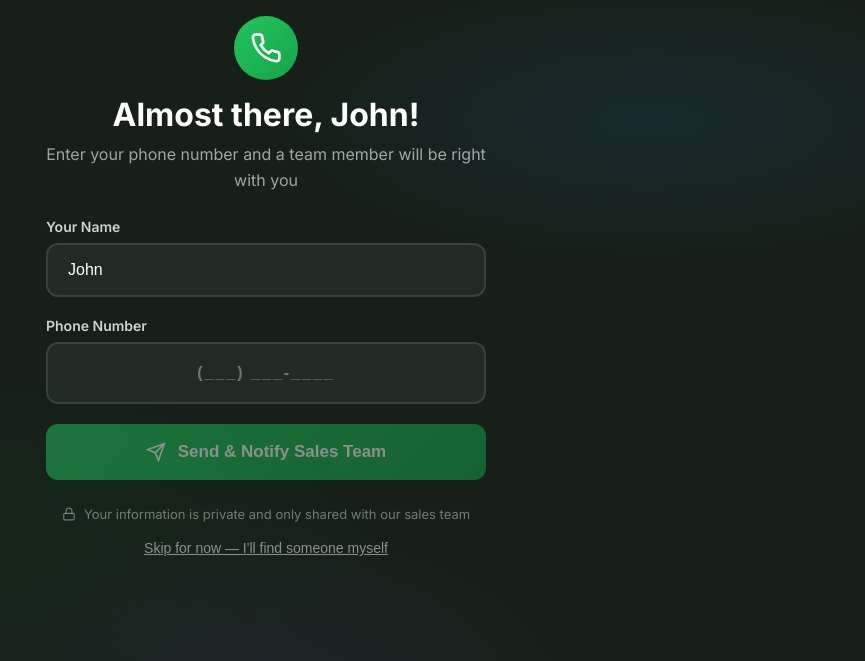
Test: CustomerHandoff Component › Form Submission › shows success view after successful submission
Type "6175551234" into the field with placeholder "(___) ___-____" at point(266, 373), box x1=46 y1=342 x2=486 y2=404
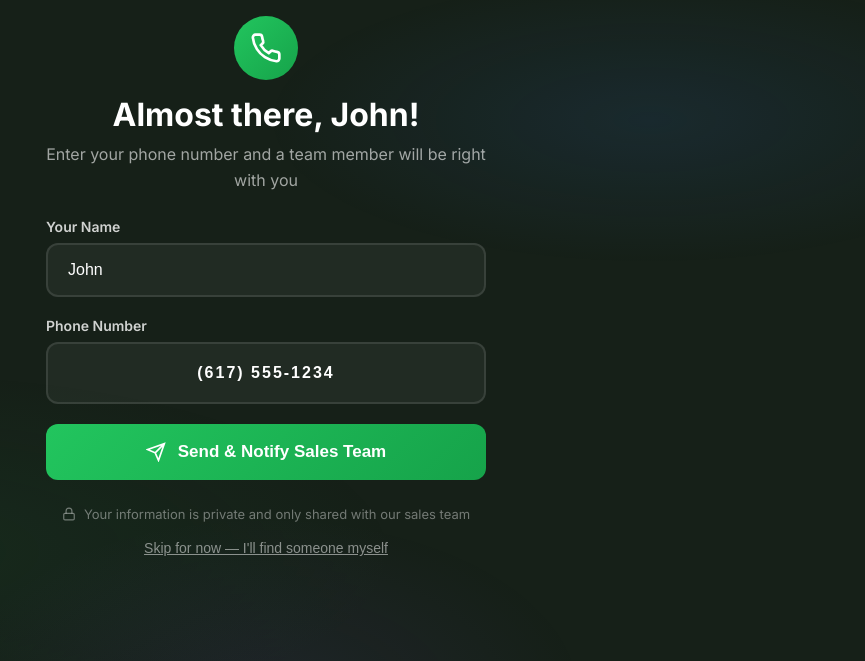
Click the button "Send & Notify Sales Team" at point(266, 452), box x1=46 y1=424 x2=486 y2=480
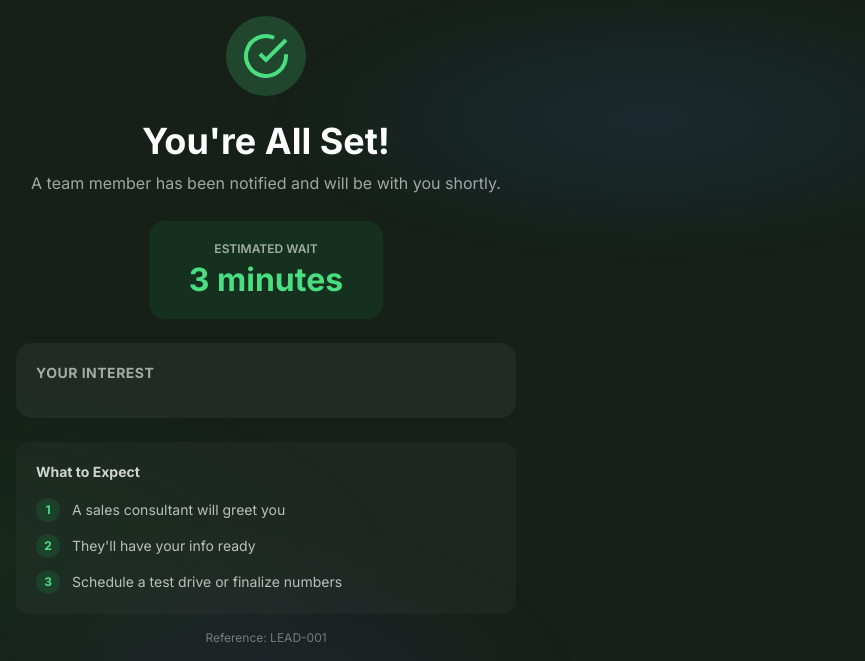
Expected: the heading "You're All Set!" is shown, x1=142 y1=120 x2=390 y2=163
